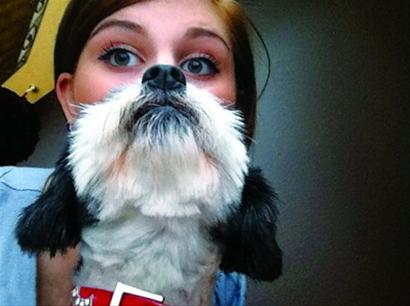face: (70, 1, 237, 169)
